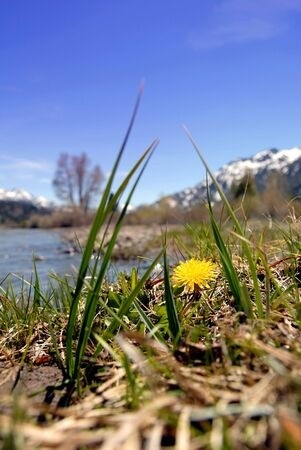dandelion: (167, 256, 223, 296)
